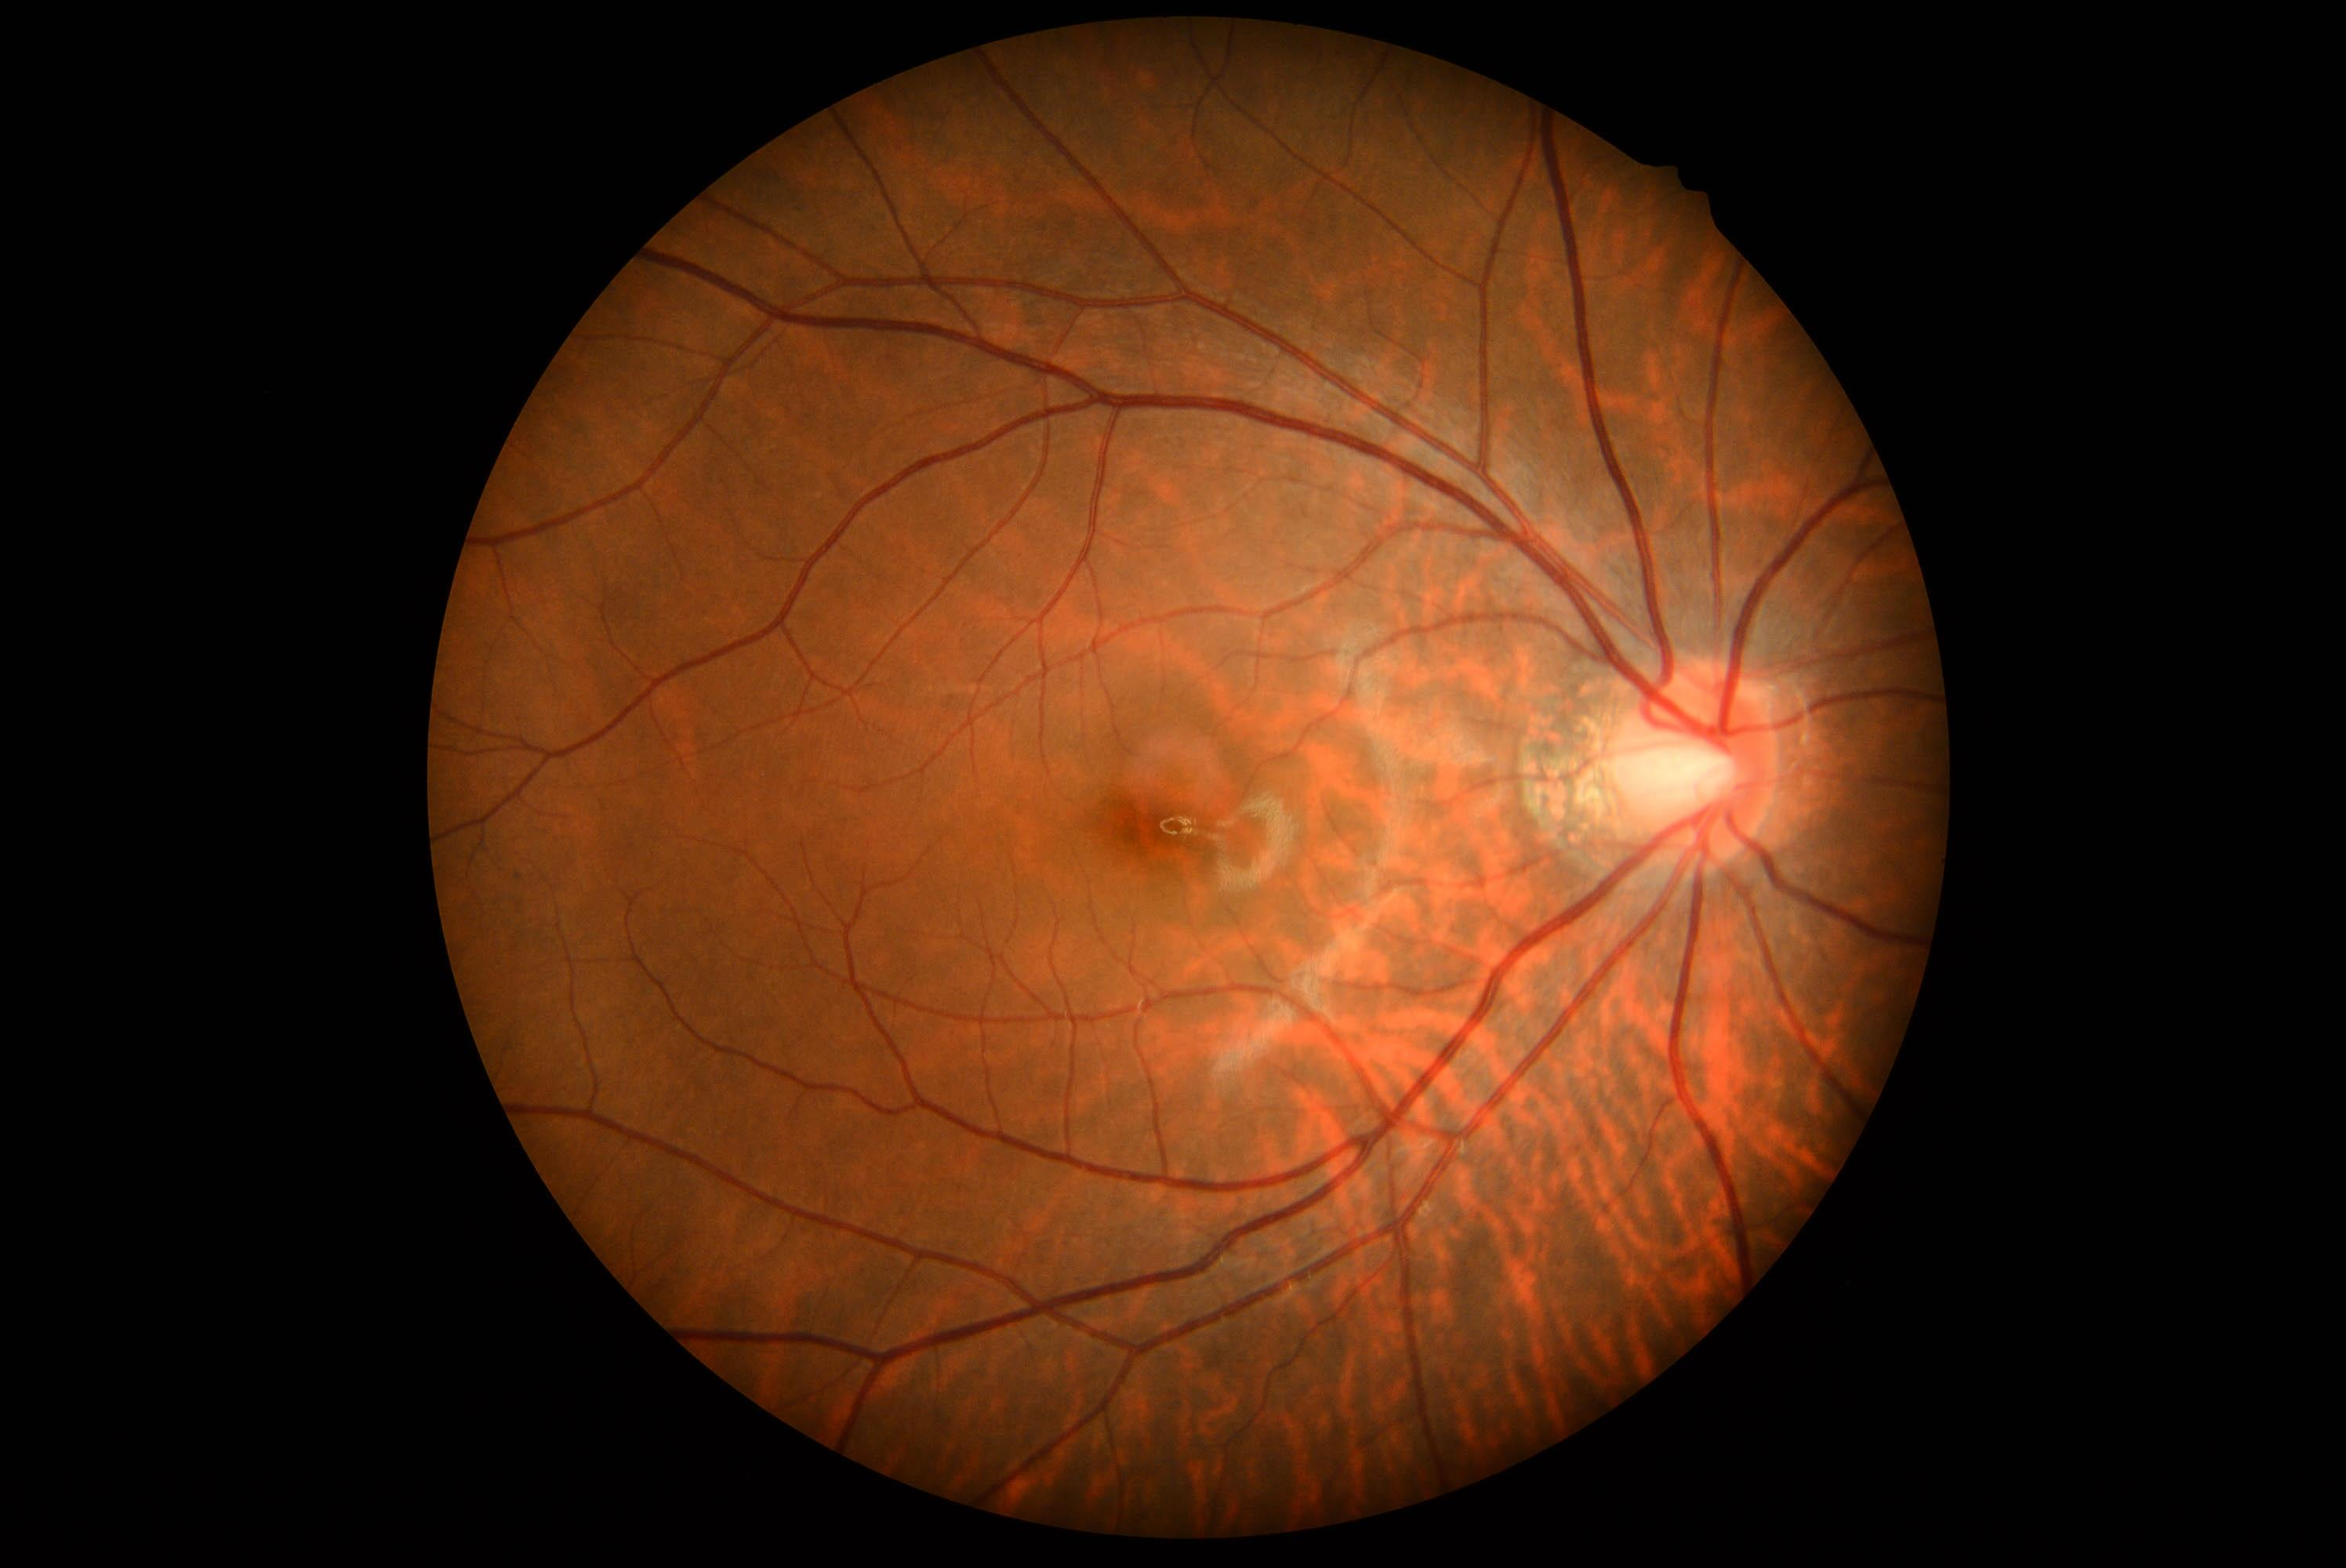Fovea: (1081, 739, 1242, 901)
